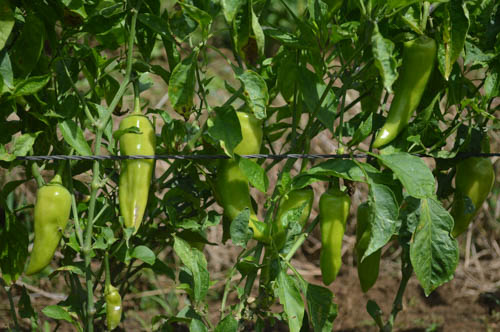ChiliPepper: (205, 111, 274, 244), (370, 38, 431, 157), (111, 117, 160, 231), (25, 183, 77, 288), (444, 155, 496, 241), (315, 190, 355, 278), (351, 201, 381, 290), (267, 188, 310, 246), (103, 291, 128, 331)
